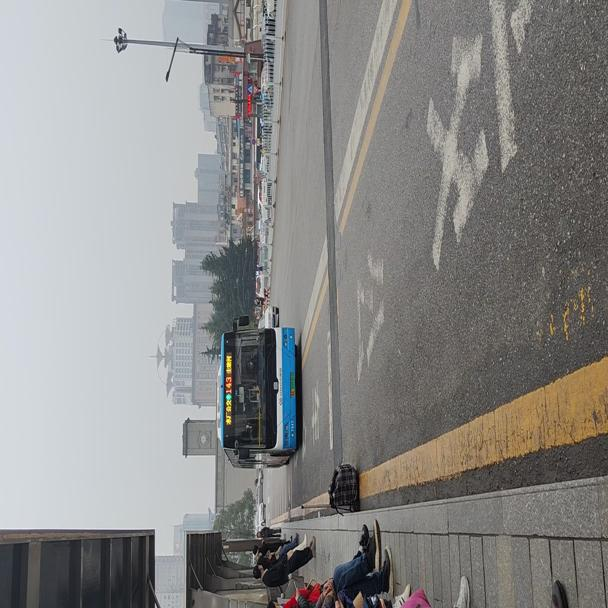bus: (210, 326, 296, 463)
screen: (219, 371, 233, 395)
